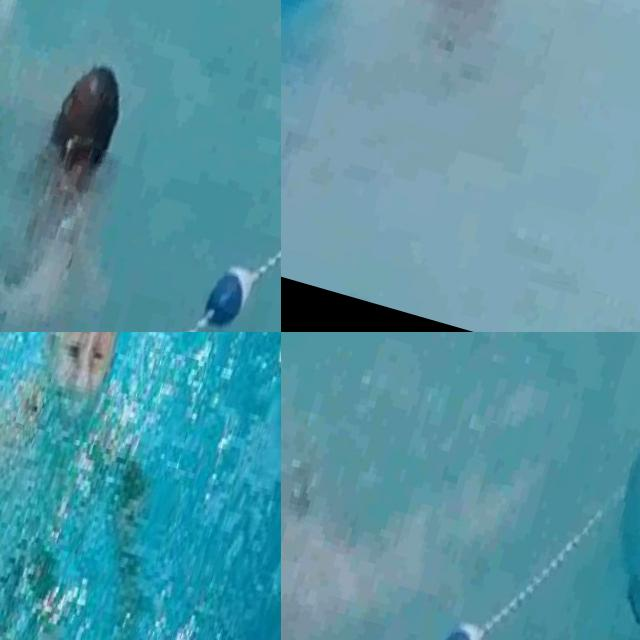drowning: (0, 332, 272, 640), (0, 0, 165, 326), (346, 0, 597, 128), (281, 437, 381, 640)
